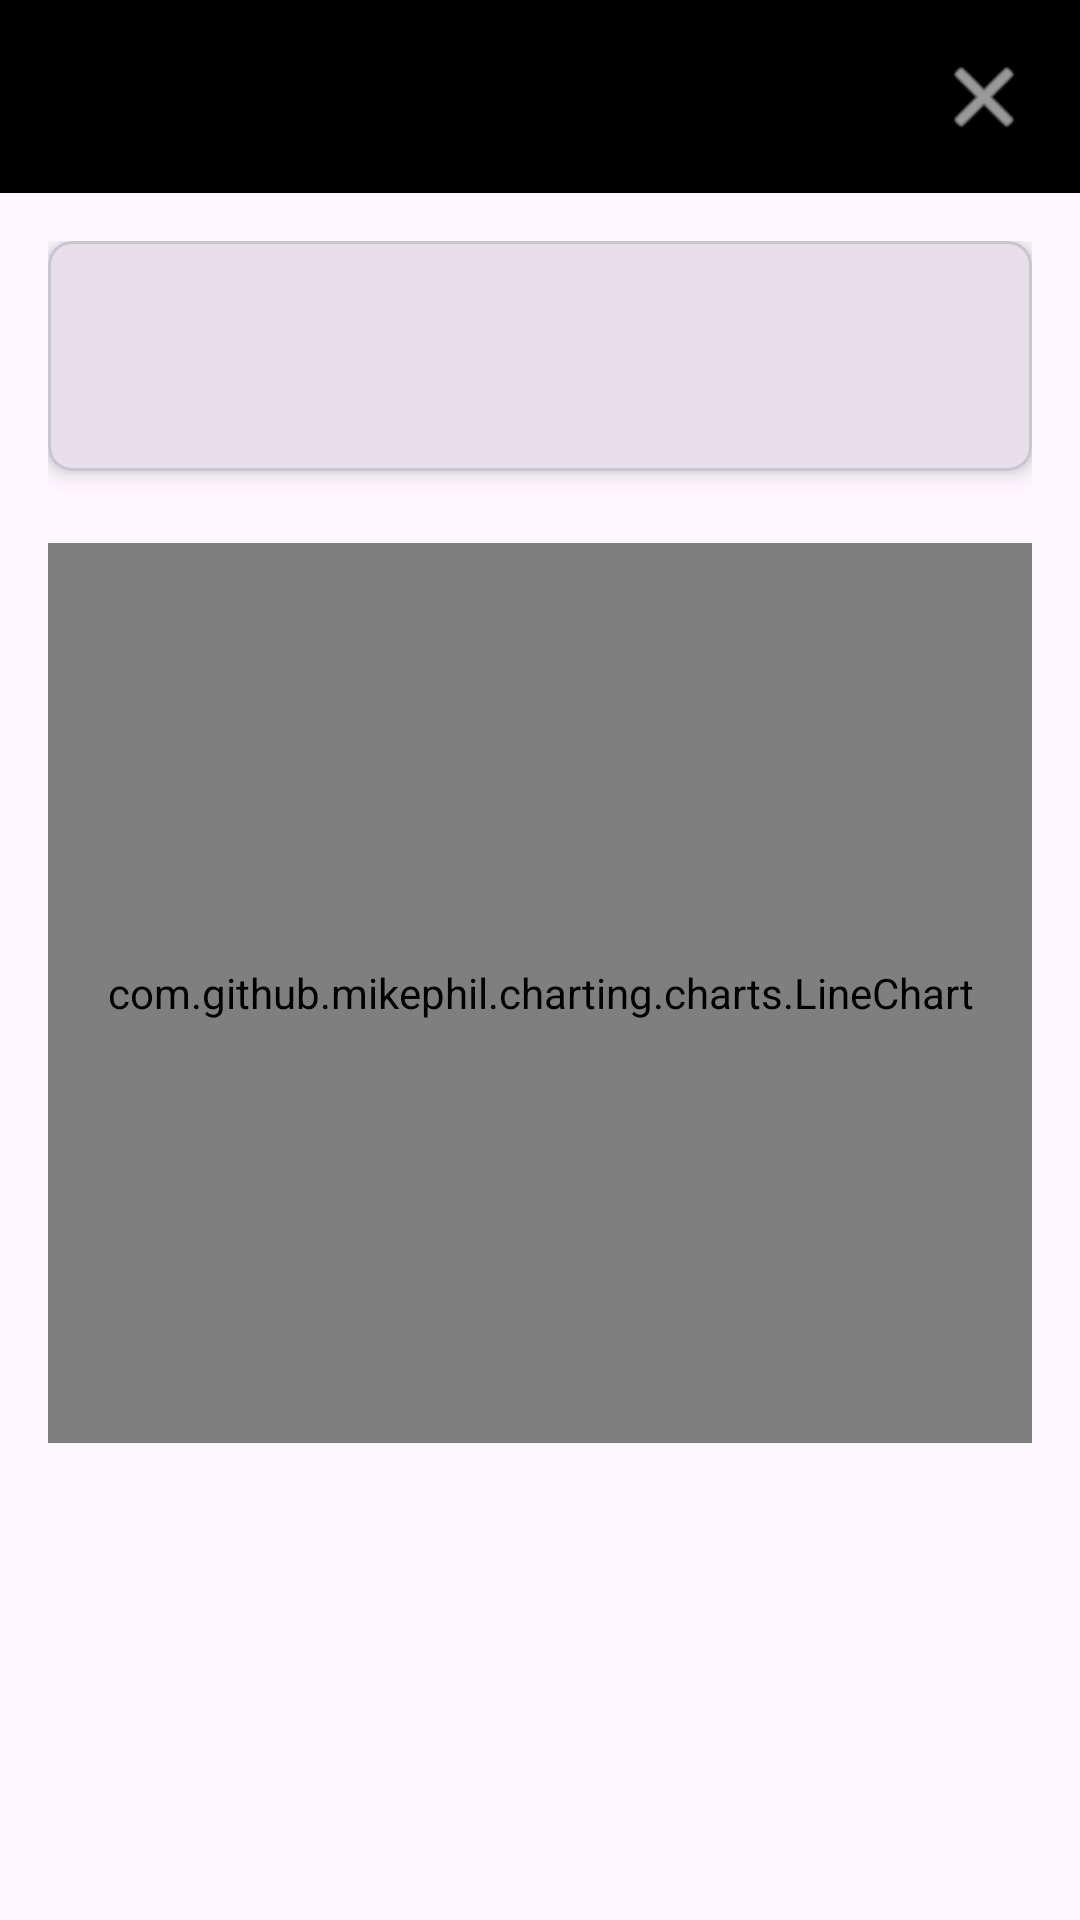

Point at icon controls on the screen. Image size 1080w x 1920h, points as (x=x, y=y).
close clear cancel: (x=984, y=97)
